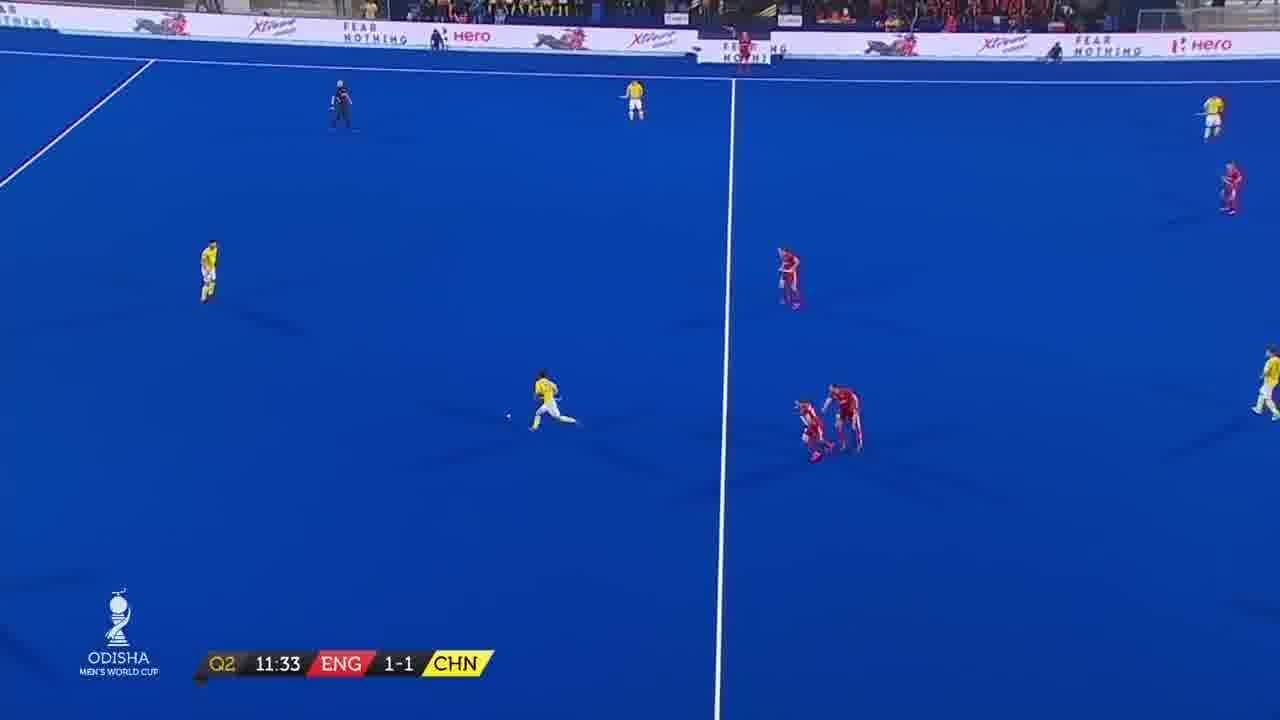ball: (504, 410, 514, 424)
